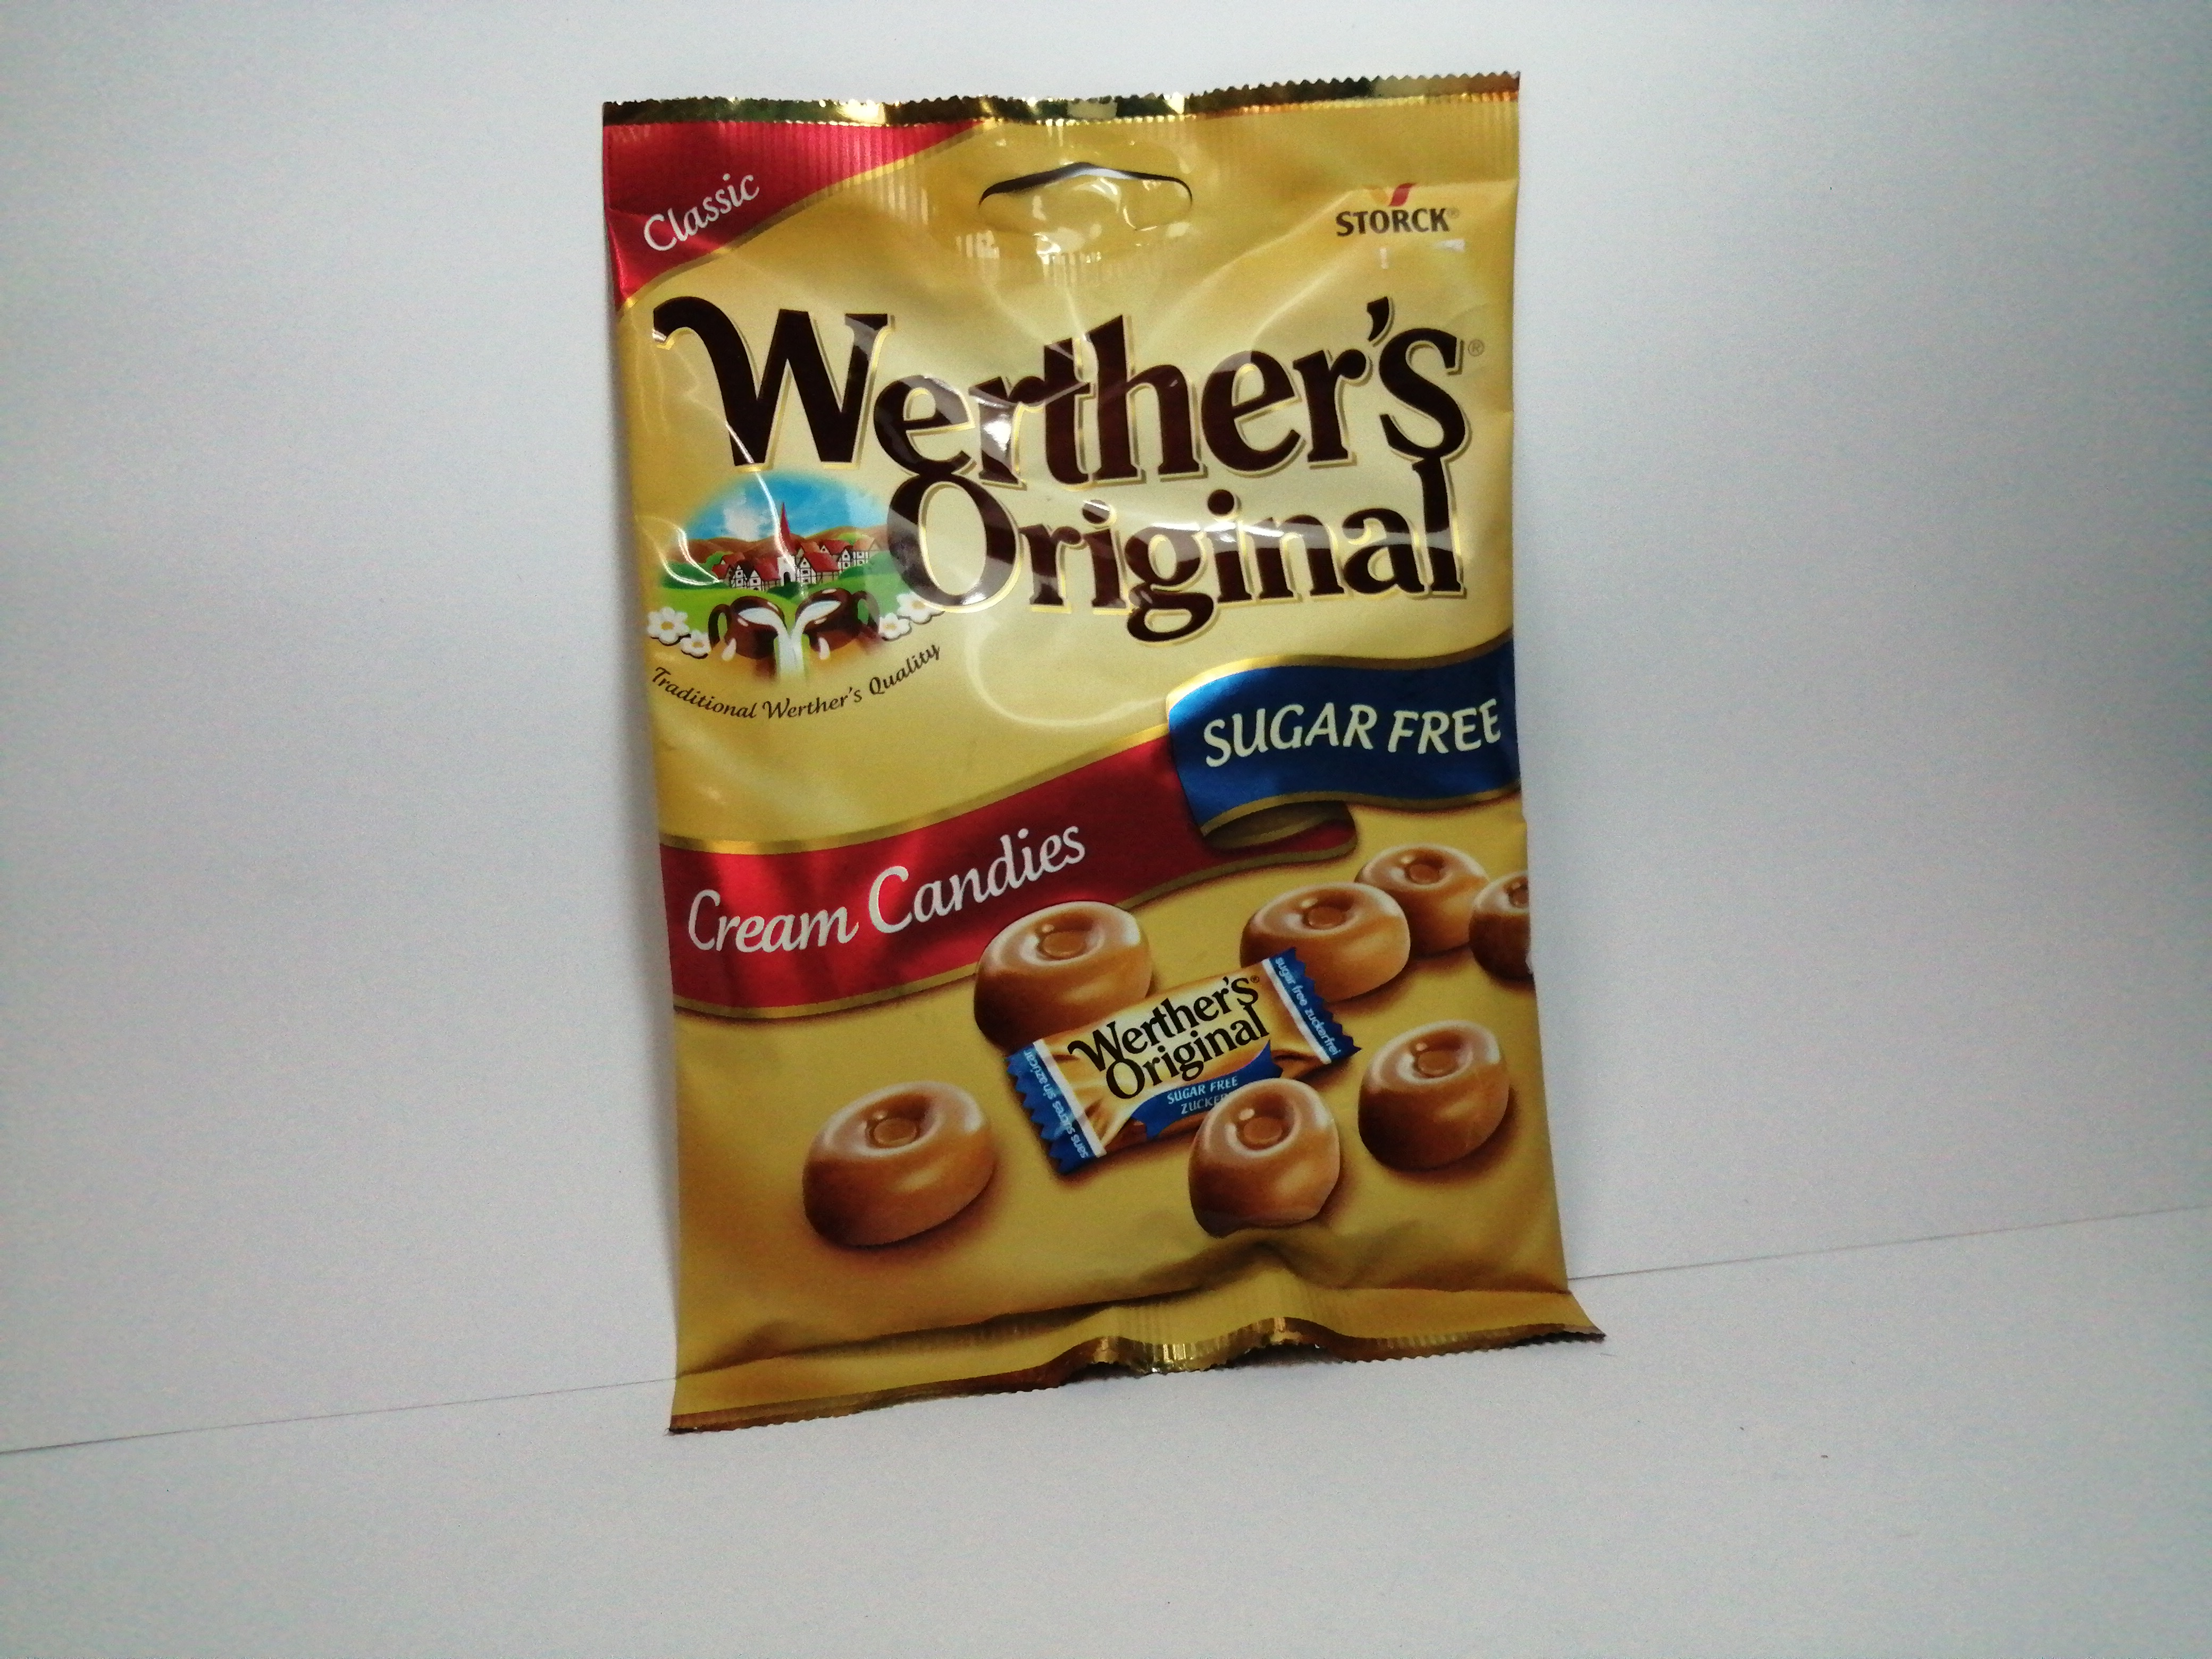dulces: (596, 75, 1609, 1427)
